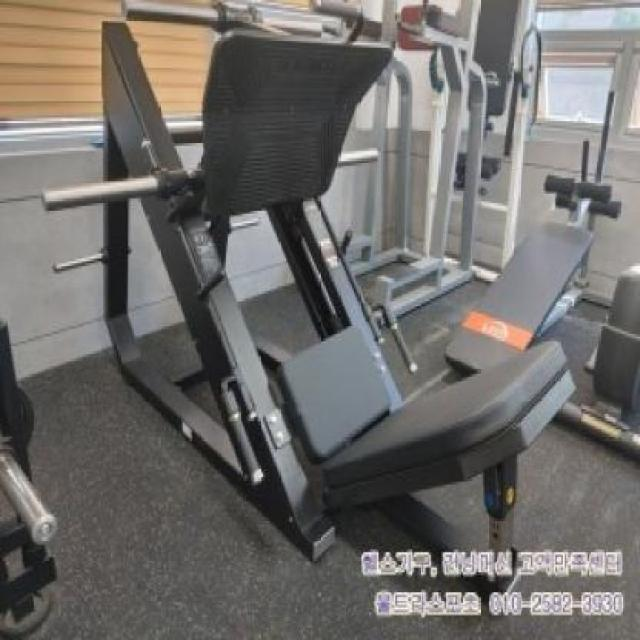leg press: (35, 0, 595, 612)
